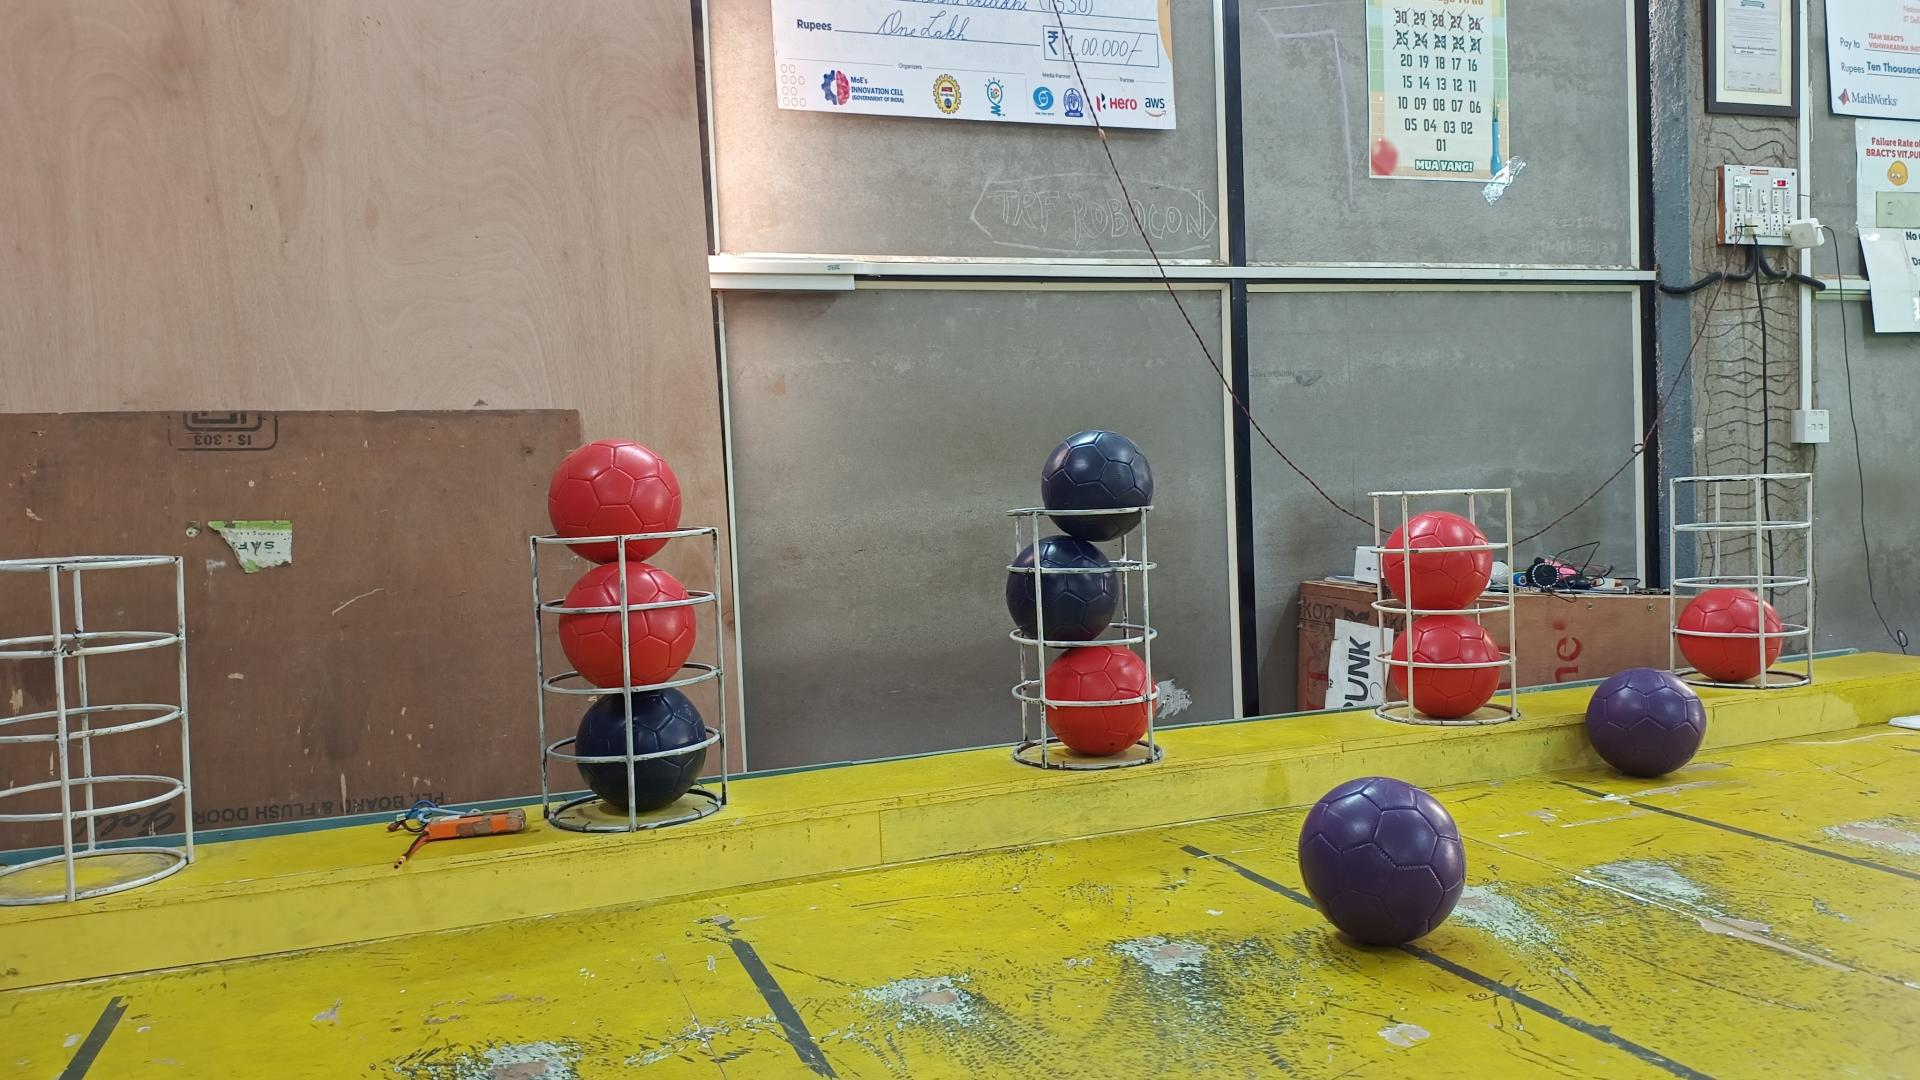dhoka: (574, 686, 709, 812), (1040, 431, 1154, 543), (1006, 535, 1118, 640)
laale: (549, 438, 683, 566), (560, 558, 695, 686), (1043, 645, 1155, 757), (1389, 612, 1505, 717), (1381, 512, 1494, 609), (1680, 587, 1785, 680)
